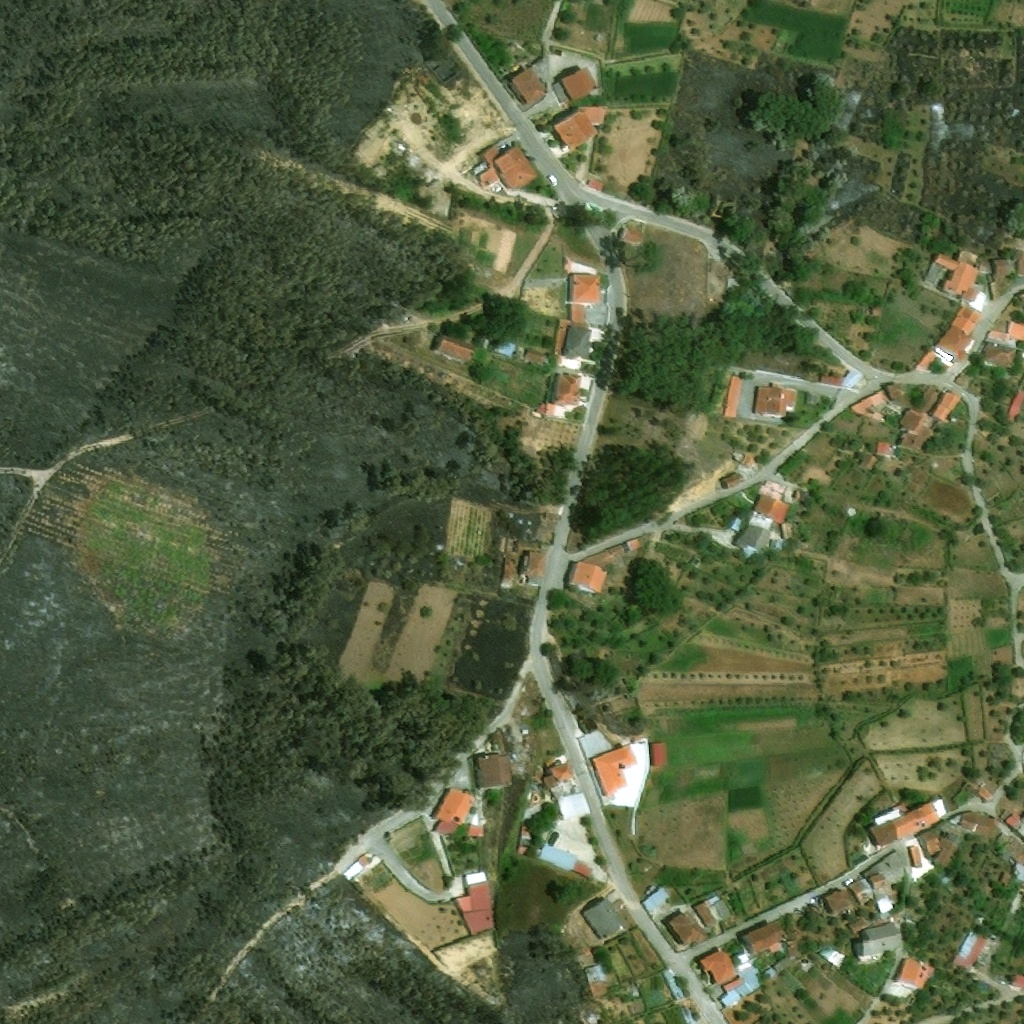0 no-damage: (728, 480, 808, 558), (576, 728, 646, 807), (932, 249, 1023, 301), (864, 796, 948, 848), (555, 273, 600, 359), (470, 144, 541, 192), (860, 848, 912, 913), (524, 754, 576, 817), (541, 105, 606, 154), (447, 869, 493, 937), (717, 951, 765, 1009), (846, 916, 903, 964), (916, 325, 976, 369), (425, 786, 476, 836), (977, 321, 1023, 369), (850, 382, 906, 421), (581, 537, 644, 570), (577, 896, 624, 940), (741, 917, 784, 961), (661, 911, 711, 947), (505, 66, 550, 106), (892, 954, 938, 993), (549, 65, 596, 103), (690, 893, 731, 935), (558, 559, 609, 592), (428, 332, 478, 364), (471, 753, 512, 792), (951, 931, 991, 970), (899, 409, 936, 451), (751, 380, 792, 417), (696, 948, 734, 985), (931, 820, 961, 864), (718, 375, 748, 417), (340, 857, 369, 897), (949, 302, 984, 334), (538, 844, 576, 873), (611, 219, 646, 250), (992, 832, 1023, 867), (552, 375, 584, 408), (556, 791, 591, 821), (584, 962, 614, 996), (959, 813, 997, 839), (933, 389, 962, 419), (822, 886, 855, 911), (659, 968, 684, 1001), (771, 940, 796, 973), (846, 875, 873, 905), (915, 384, 940, 412), (483, 338, 518, 358), (579, 167, 604, 194), (523, 550, 547, 577), (714, 471, 748, 490), (998, 861, 1023, 886), (915, 830, 941, 853), (1005, 388, 1023, 421), (963, 284, 983, 311), (649, 740, 667, 769), (515, 825, 532, 855), (500, 560, 516, 589), (569, 861, 592, 881), (521, 347, 545, 364), (905, 845, 922, 868), (924, 262, 941, 285), (817, 373, 842, 386), (976, 785, 993, 801), (955, 372, 971, 389), (463, 824, 483, 837), (1004, 811, 1020, 827), (487, 730, 505, 743), (739, 454, 755, 468), (876, 440, 890, 455), (763, 967, 776, 980), (869, 306, 885, 316), (545, 401, 555, 414), (545, 512, 559, 520)
3 destroyed: (506, 538, 517, 551)
4 un-classified: (1011, 974, 1023, 987)
